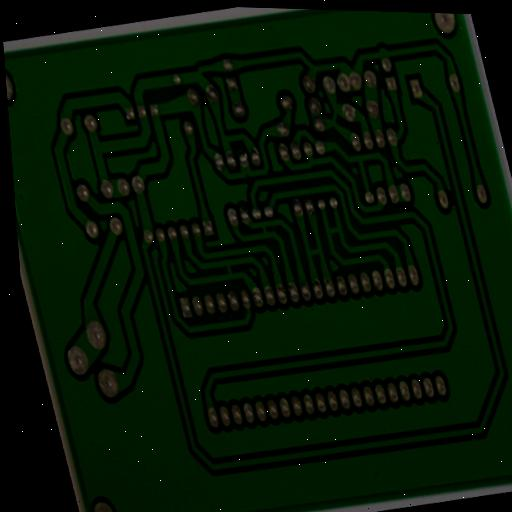short_circuit: (323, 96, 346, 131), (301, 240, 327, 266), (253, 216, 275, 243), (218, 256, 240, 283), (322, 219, 345, 241)
